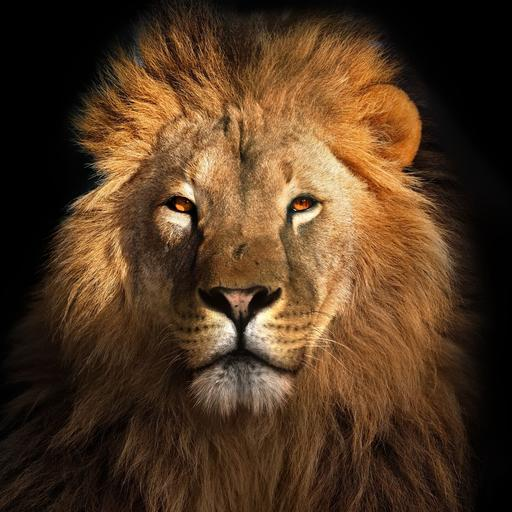Lion: (0, 0, 478, 512)
